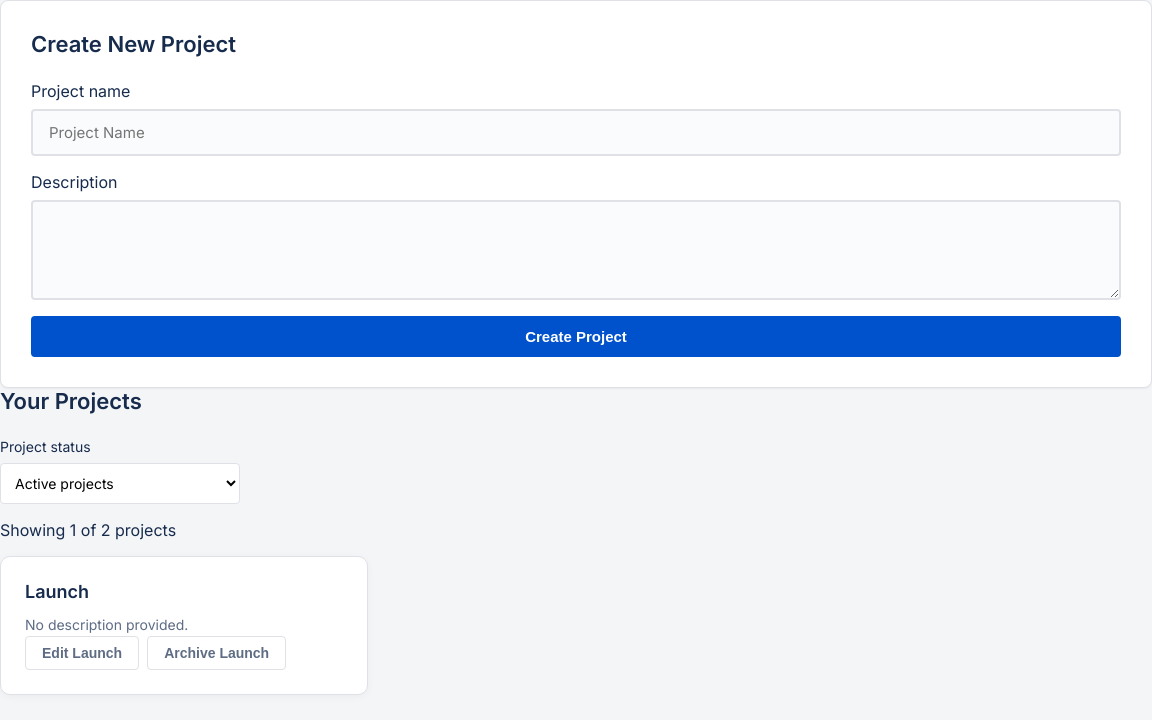
Test: filters active, archived, and all projects while keeping archived projects readable
This screenshot has width=1152, height=720.
Expected: the button with aria-label "Open Launch" is shown, [25, 581, 89, 602]
Select "Archived projects" in the dropdown labelled "Project status": (120, 484) [0, 463, 240, 504]
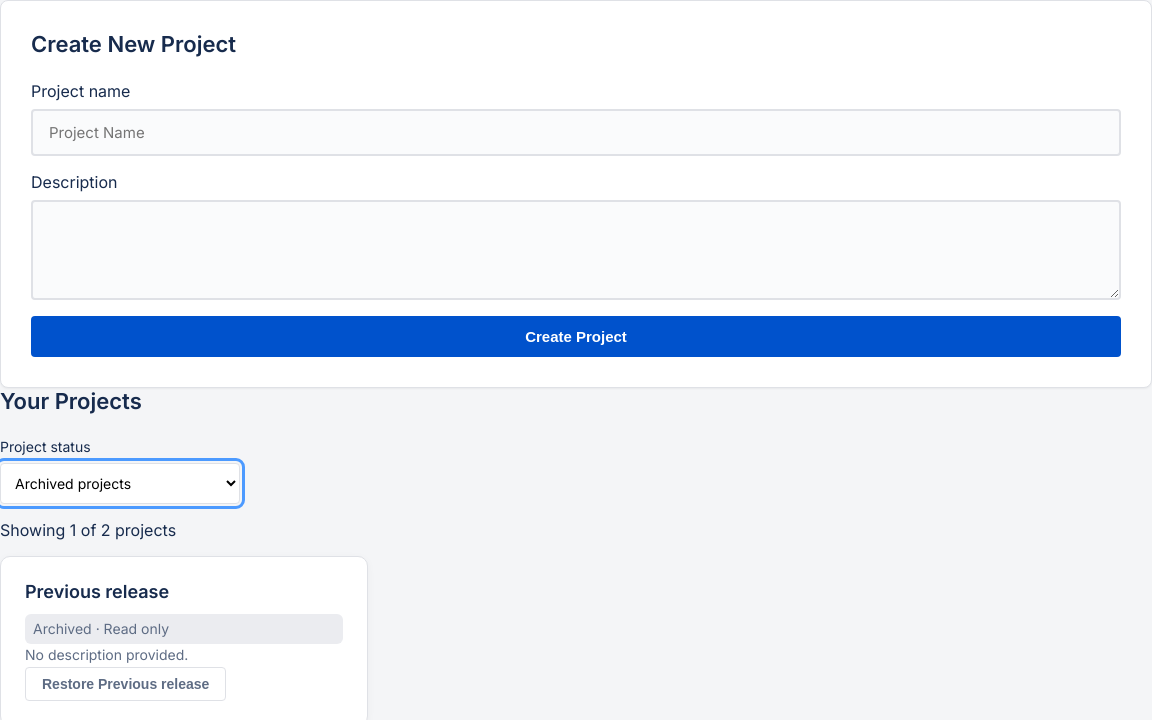
Result: the button "Restore Previous release" is shown at [25, 667, 226, 701]
Click the button with aria-label "Open Previous release": (97, 592) [25, 581, 169, 602]
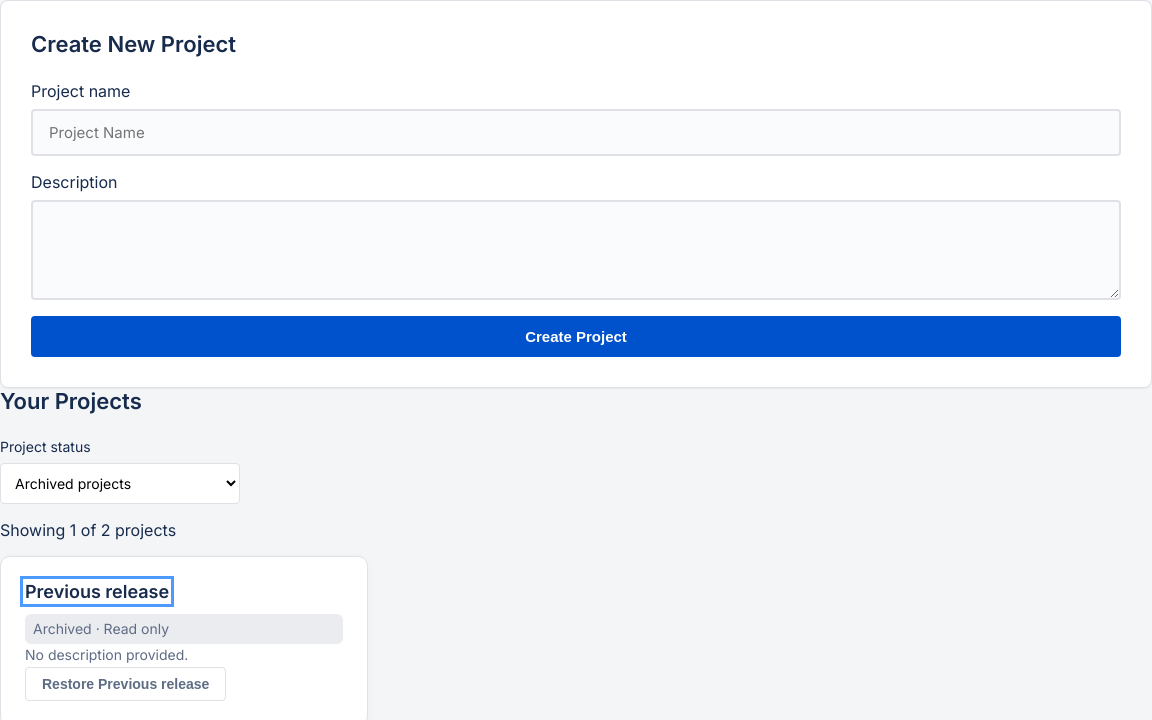
Select "All projects" in the dropdown labelled "Project status": (120, 484) [0, 463, 240, 504]
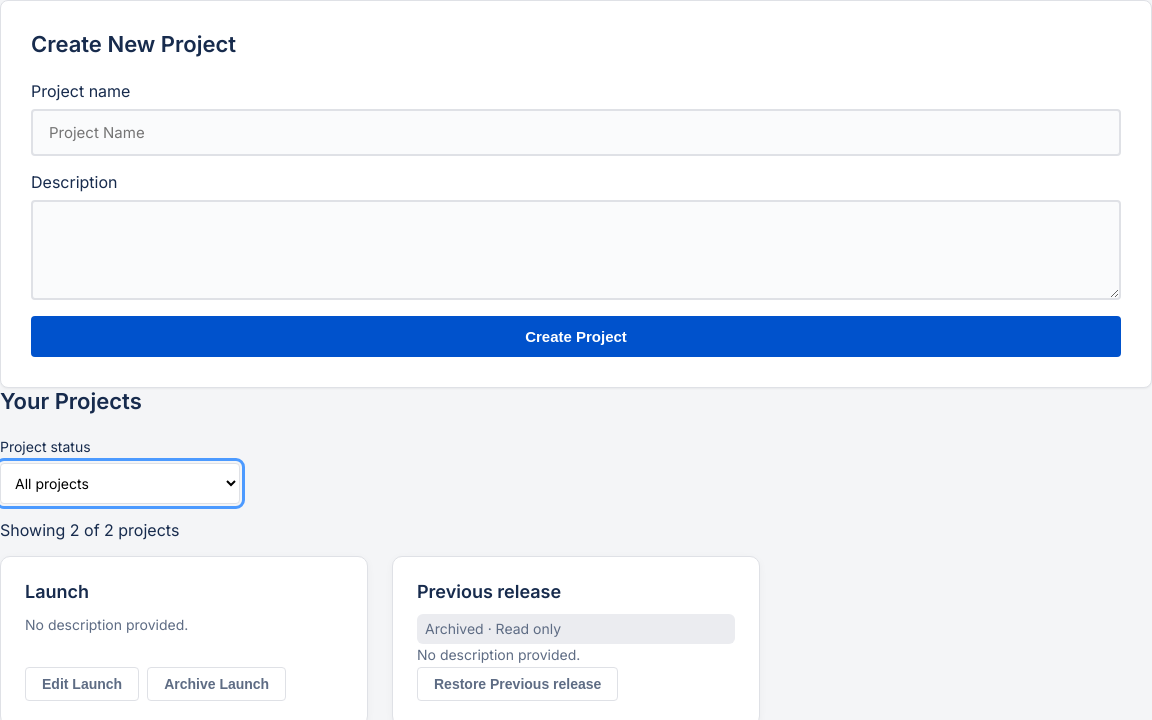
Result: the message reads "Showing 2 of 2 projects" at [0, 520, 179, 540]
